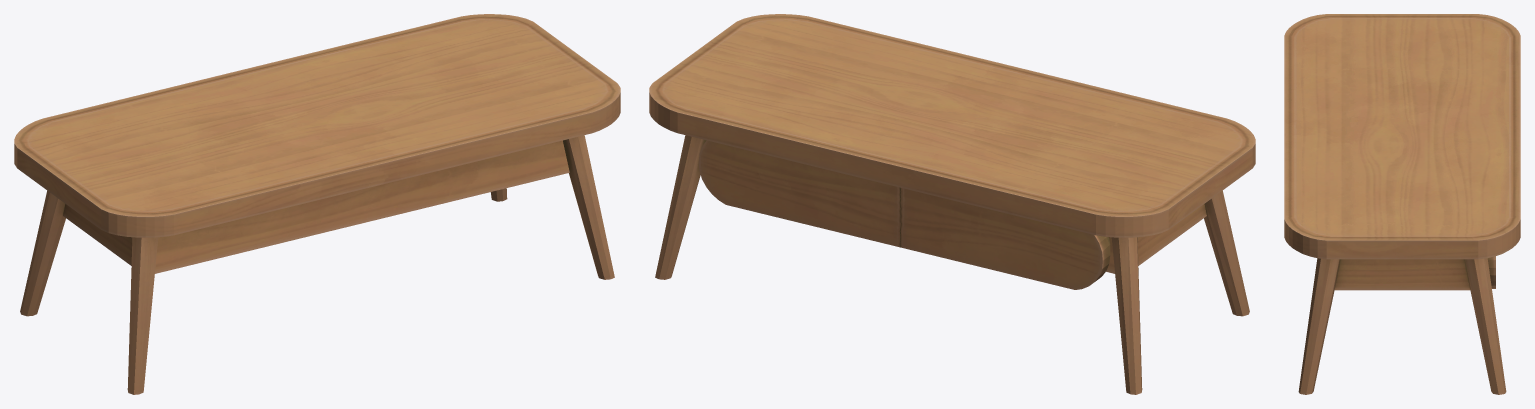
File: P_Table_022_S1_M02.obj
3 views of the same model, side by side, from view 1: azimuth 30°, elevation 25°; view 2: azimuth 150°, elevation 25°; view 3: azimuth 270°, elevation 25° (orthographic). The views are drawn at different scales.
Size of the model in its own units: 1.81 by 0.5985 by 0.7951.
1 material, 1 textured.
